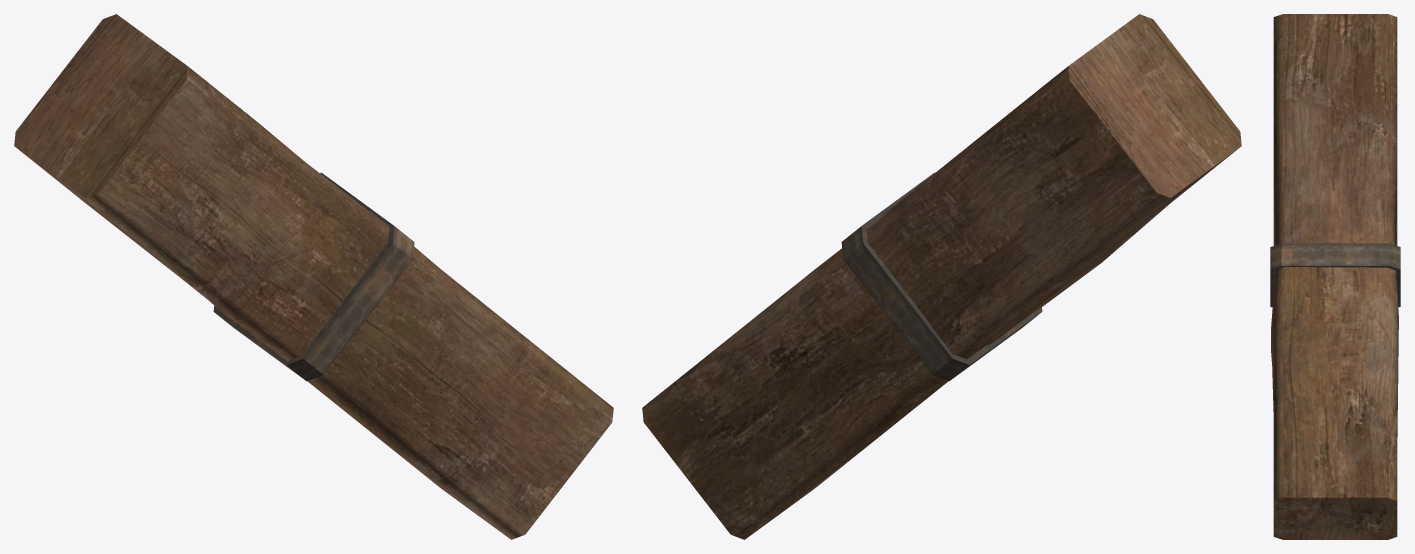
The picture shows the model from 3 angles, left to right: view 1: azimuth 30°, elevation 25°; view 2: azimuth 150°, elevation 25°; view 3: azimuth 270°, elevation 25°; orthographic projection. The views are drawn at different scales.
Visible parts, largest first — view 1: SM_BB_T3_Extended_Beam_Thick_Med_Diagonal_LOD0; view 2: SM_BB_T3_Extended_Beam_Thick_Med_Diagonal_LOD0; view 3: SM_BB_T3_Extended_Beam_Thick_Med_Diagonal_LOD0.
Boxes of the visible parts, x1,y1,x2,y2 form: SM_BB_T3_Extended_Beam_Thick_Med_Diagonal_LOD0: [14, 14, 613, 539]; SM_BB_T3_Extended_Beam_Thick_Med_Diagonal_LOD0: [642, 14, 1241, 539]; SM_BB_T3_Extended_Beam_Thick_Med_Diagonal_LOD0: [1270, 14, 1400, 539].
Size of the model in its own units: 1.9 by 1.9 by 0.5477.
2 materials, 2 textured.
